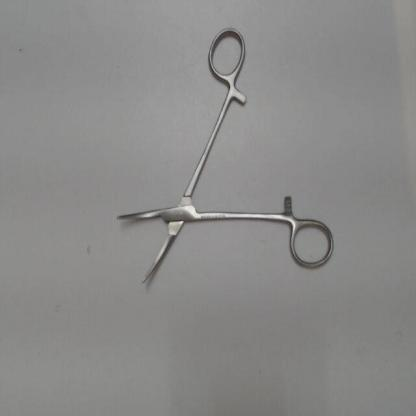Crile Artery Forceps: (111, 22, 337, 294)
